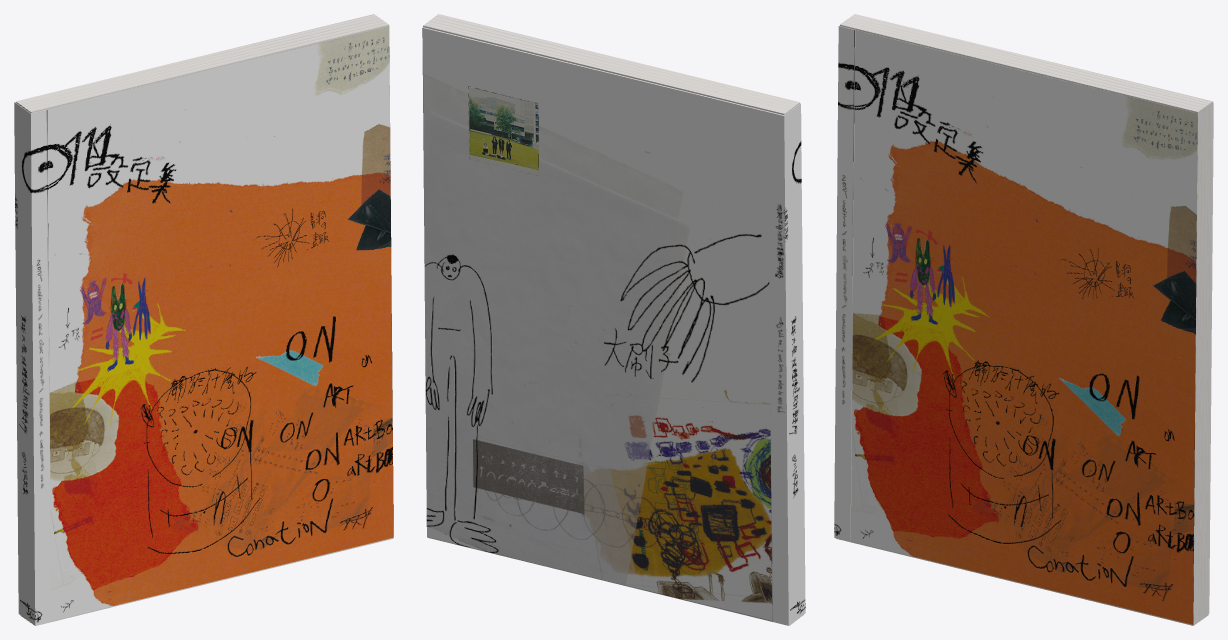
File: conceptbook.fbx
3 views of the same model, side by side, from view 1: azimuth 30°, elevation 25°; view 2: azimuth 150°, elevation 25°; view 3: azimuth 330°, elevation 25° (orthographic).
Parts seen in each view (by area): view 1: group4; view 2: group4; view 3: group4.
Boxes of the visible parts, x1,y1,x2,y2 form: group4: (14,14,393,625); group4: (422,14,805,625); group4: (834,14,1213,625).
Size of the model in its own units: 17 by 23.14 by 1.73.
1 material, 1 textured.
